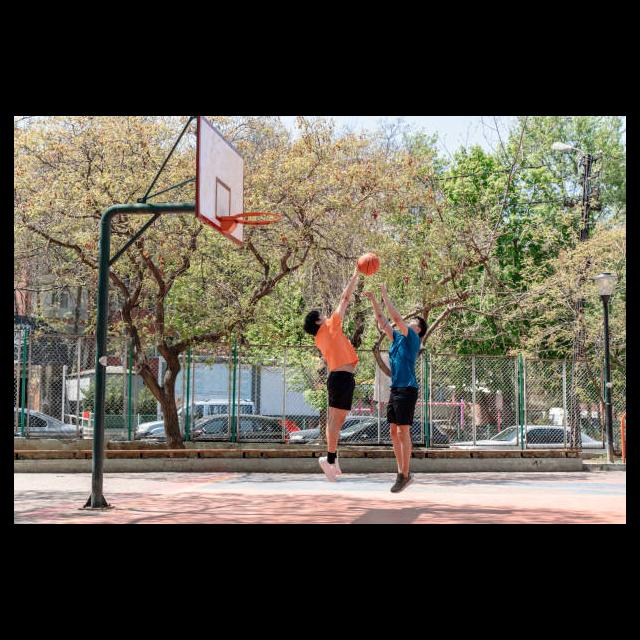basketball: (358, 254, 379, 275)
hoop: (238, 215, 279, 250)
